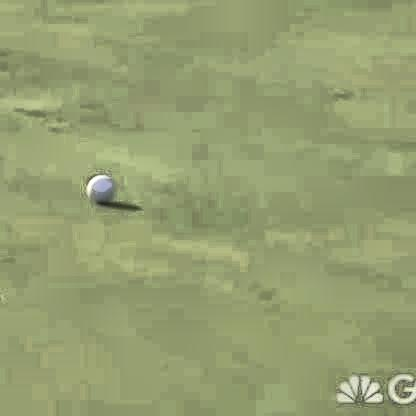golfball: (82, 166, 115, 203)
